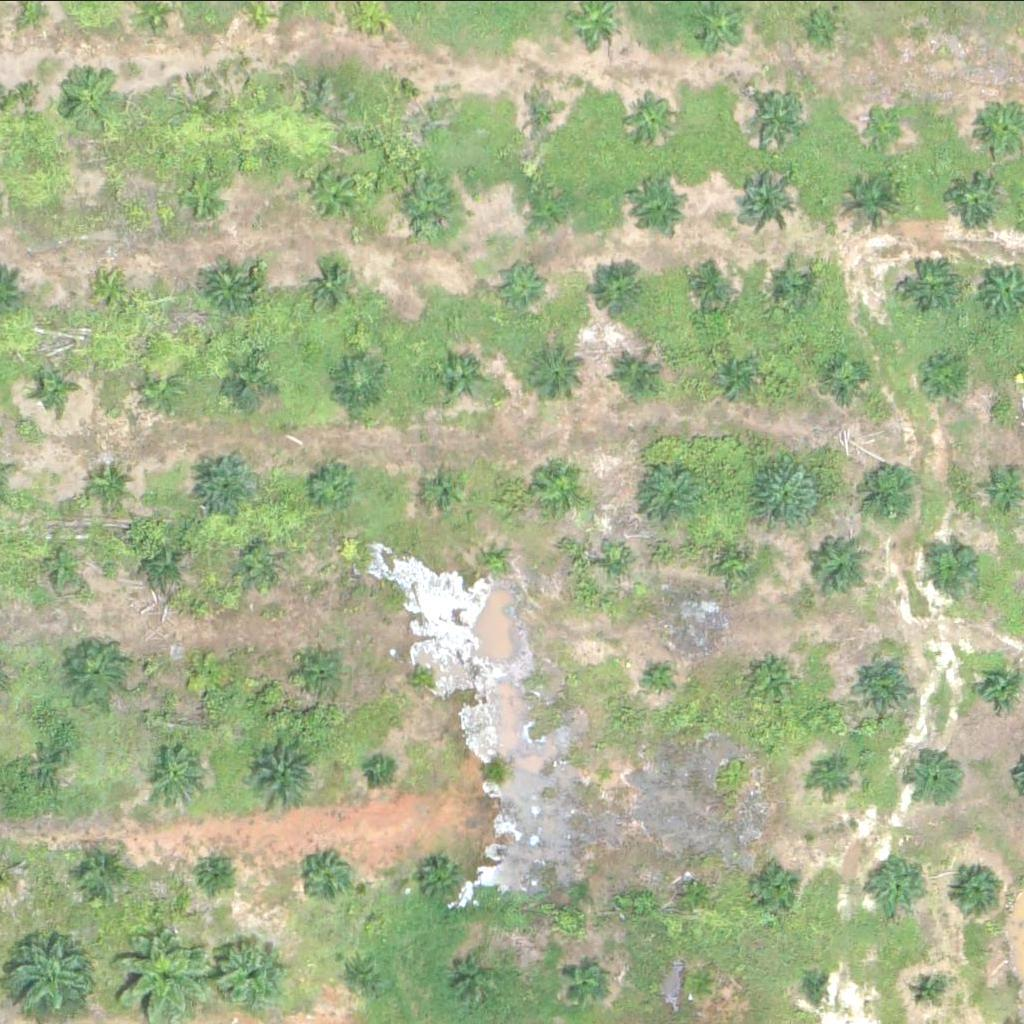Kelapa_Sawit: (209, 930, 297, 1018), (633, 458, 709, 533), (851, 454, 927, 529), (747, 454, 823, 529), (245, 737, 321, 812), (806, 537, 869, 600), (902, 252, 965, 315), (852, 652, 915, 715), (526, 336, 589, 399), (397, 178, 460, 241), (195, 449, 258, 512), (30, 534, 93, 597), (595, 257, 658, 320), (633, 174, 696, 236), (846, 173, 909, 235), (747, 86, 810, 148), (730, 170, 793, 232), (68, 642, 131, 704), (147, 742, 210, 804), (949, 859, 1012, 921), (867, 855, 930, 917), (199, 255, 262, 317), (300, 161, 363, 223), (60, 65, 123, 127), (17, 738, 80, 800), (626, 92, 677, 142), (911, 751, 962, 801), (748, 861, 799, 911), (334, 355, 385, 405), (216, 357, 267, 407), (138, 537, 189, 587), (81, 461, 132, 511), (232, 536, 283, 586), (178, 648, 229, 698), (305, 460, 356, 510), (305, 262, 356, 312), (520, 88, 571, 138), (518, 176, 569, 226), (495, 258, 546, 308), (437, 350, 488, 400), (931, 539, 981, 589), (914, 353, 964, 403), (818, 354, 868, 404), (949, 172, 999, 222), (76, 847, 126, 897), (539, 461, 589, 511), (176, 167, 226, 217), (136, 364, 186, 414), (299, 642, 349, 692), (684, 260, 734, 310), (768, 258, 818, 308), (704, 352, 754, 402), (609, 347, 659, 397), (422, 465, 472, 515), (305, 853, 355, 903), (419, 850, 469, 900), (558, 953, 608, 1003), (451, 953, 501, 1003), (337, 946, 387, 996), (817, 760, 855, 798), (90, 270, 128, 308), (35, 367, 73, 405), (866, 109, 904, 147), (760, 656, 798, 693), (97, 173, 135, 210), (395, 90, 433, 127), (908, 969, 946, 1006), (684, 964, 721, 1002), (678, 872, 716, 909), (803, 7, 840, 44), (368, 758, 394, 783), (724, 546, 750, 571), (479, 553, 504, 578), (607, 548, 632, 573), (650, 665, 675, 690), (406, 665, 431, 690), (805, 975, 830, 1000), (204, 857, 229, 882), (595, 759, 620, 784)
